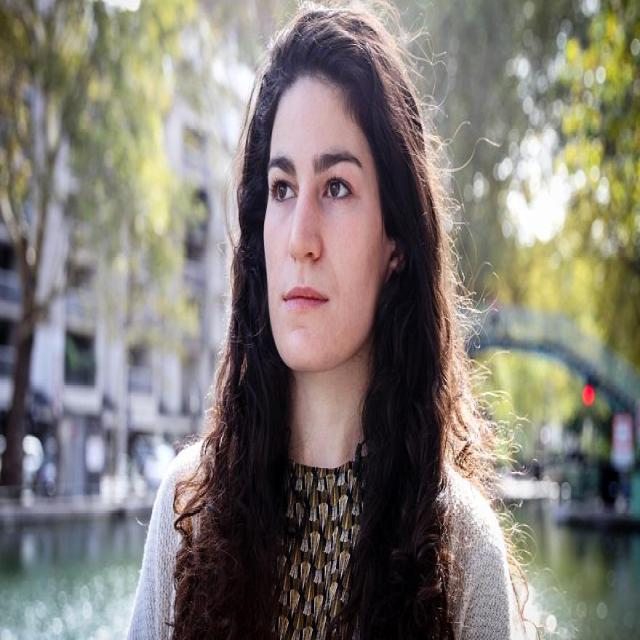mobile_phonerotation: (126, 2, 543, 638)
